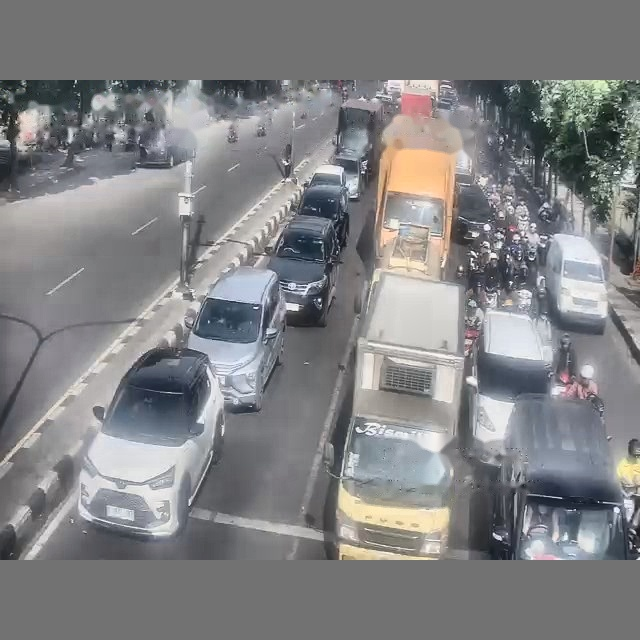Mobil: (78, 347, 224, 537), (490, 394, 628, 559), (185, 266, 285, 410), (465, 309, 552, 465), (267, 215, 340, 326), (545, 233, 608, 333), (298, 184, 349, 248), (138, 127, 195, 166), (455, 184, 493, 241), (332, 151, 365, 200), (305, 164, 347, 196)
Truk: (324, 270, 464, 559), (373, 116, 462, 279)
